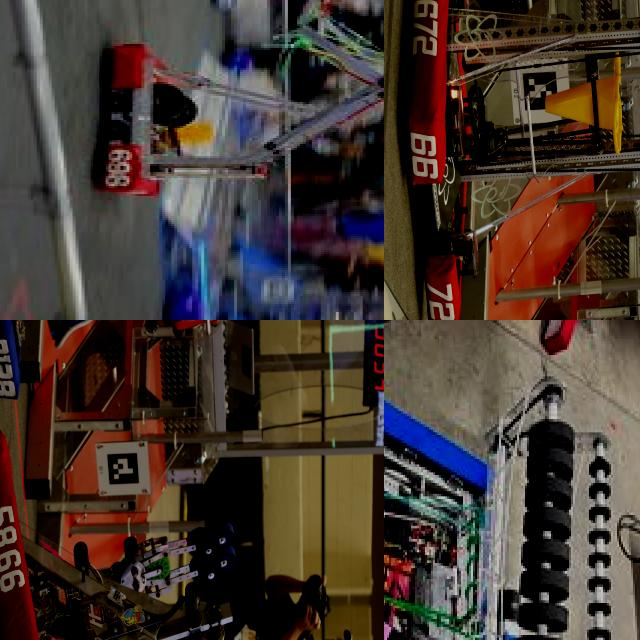FRC-Robots: (384, 322, 637, 640), (399, 0, 640, 320), (0, 405, 286, 640), (91, 0, 384, 226)
